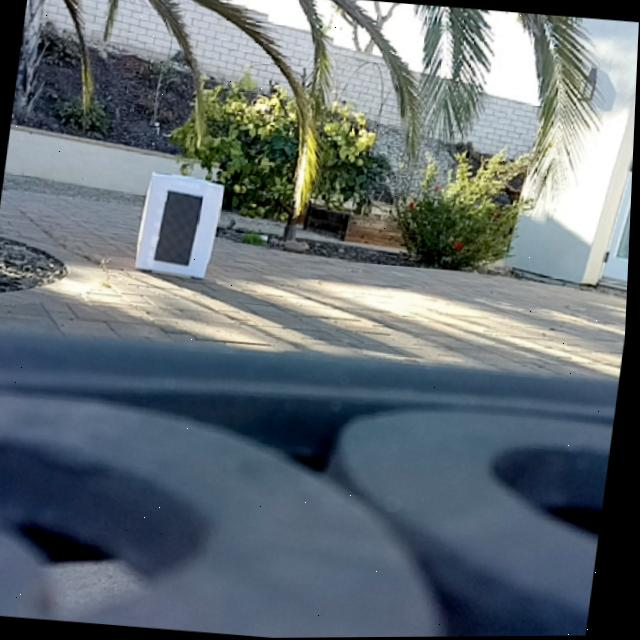led: (157, 190, 204, 266)
